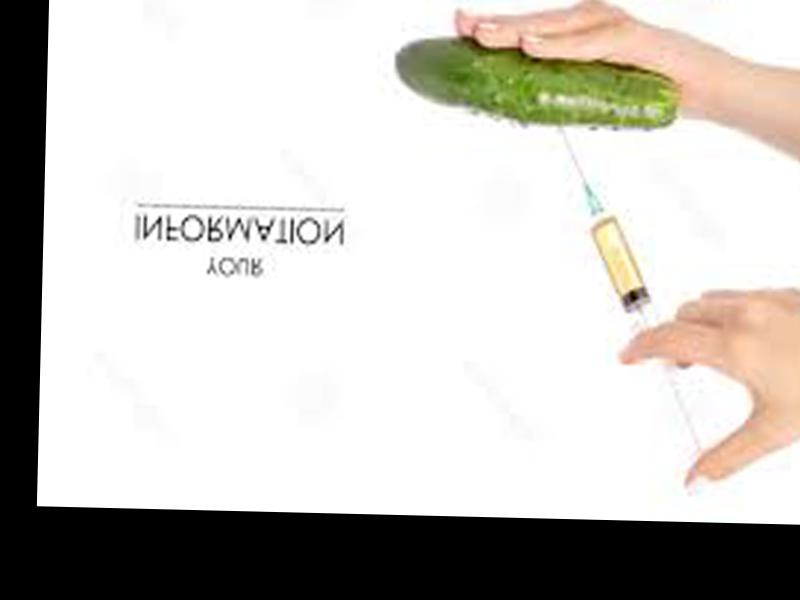Cucumber: (393, 37, 681, 128)
